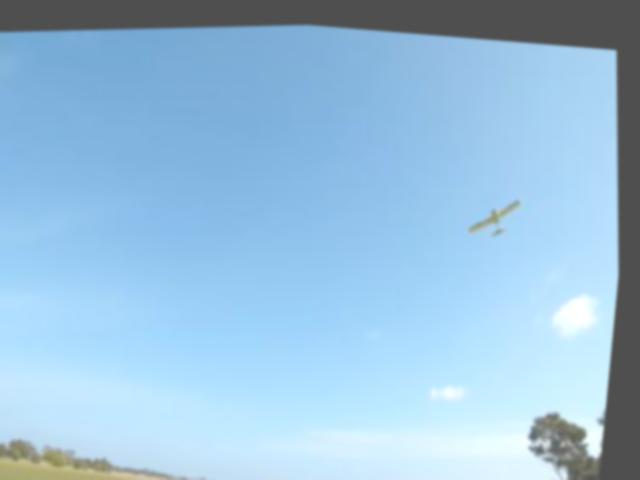uav: (462, 178, 533, 242)
